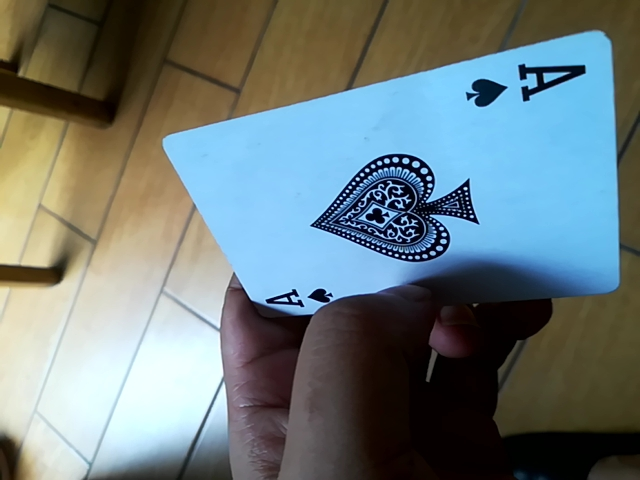ht a: (161, 32, 619, 319)
